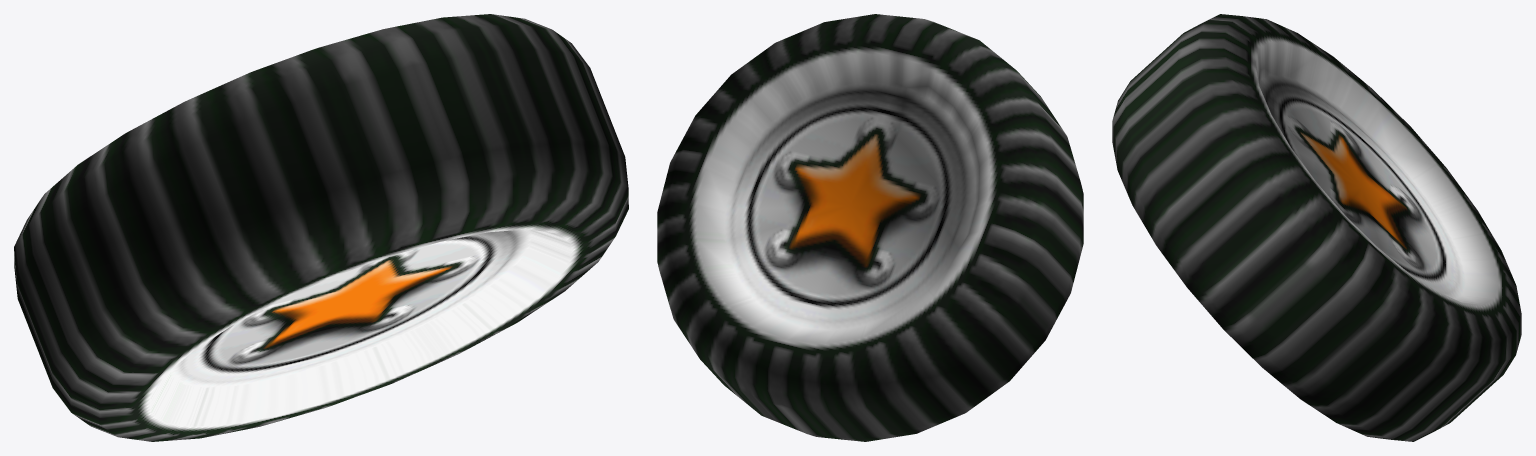
Rendered from gb_list.ico.obj.
3 renders of one model, left to right at view 1: azimuth 30°, elevation 25°; view 2: azimuth 150°, elevation 25°; view 3: azimuth 270°, elevation 25°, orthographic. The views are drawn at different scales.
Size of the model in its own units: 3.14 by 2.74 by 2.74.
1 material, 1 textured.
